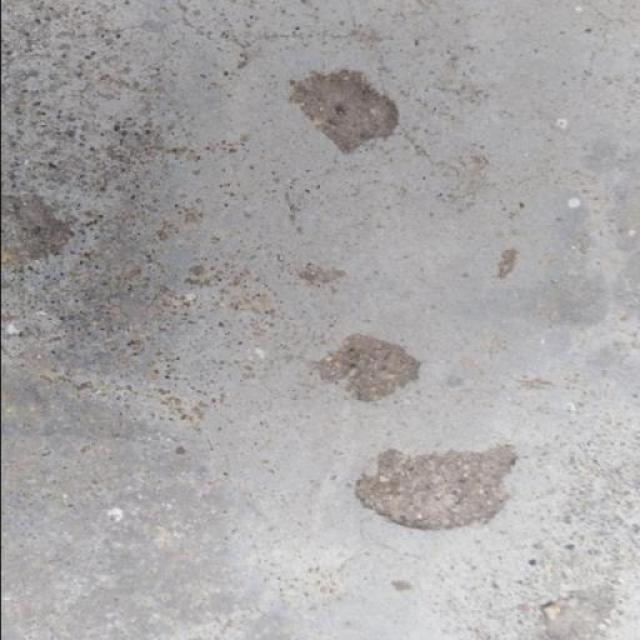D10: (350, 442, 516, 531), (286, 70, 396, 154), (301, 331, 419, 405), (5, 190, 74, 254), (535, 589, 612, 639)
